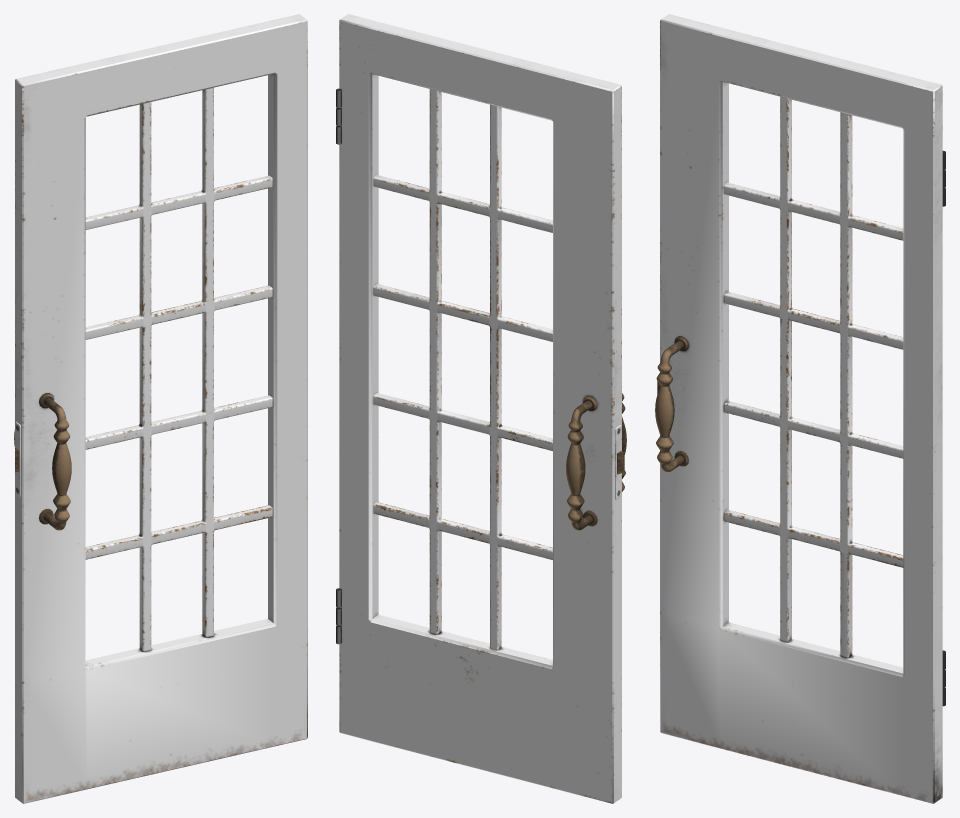
File: door_white_wooden_leaf_clean.glb
The picture shows the model from 3 angles, left to right: view 1: azimuth 30°, elevation 25°; view 2: azimuth 150°, elevation 25°; view 3: azimuth 330°, elevation 25°; orthographic projection.
Parts seen in each view (by area): view 1: door_white_wooden_leaf_clean; view 2: door_white_wooden_leaf_clean; view 3: door_white_wooden_leaf_clean.
Part boxes in pixels (box(x1,y1,x2,y2)): door_white_wooden_leaf_clean: box(14, 14, 307, 803); door_white_wooden_leaf_clean: box(336, 14, 626, 803); door_white_wooden_leaf_clean: box(655, 14, 945, 803).
Bounding box in the file's own units: 0.8567 × 2.05 × 0.2568.
Materials: 1 (1 with a texture image).
